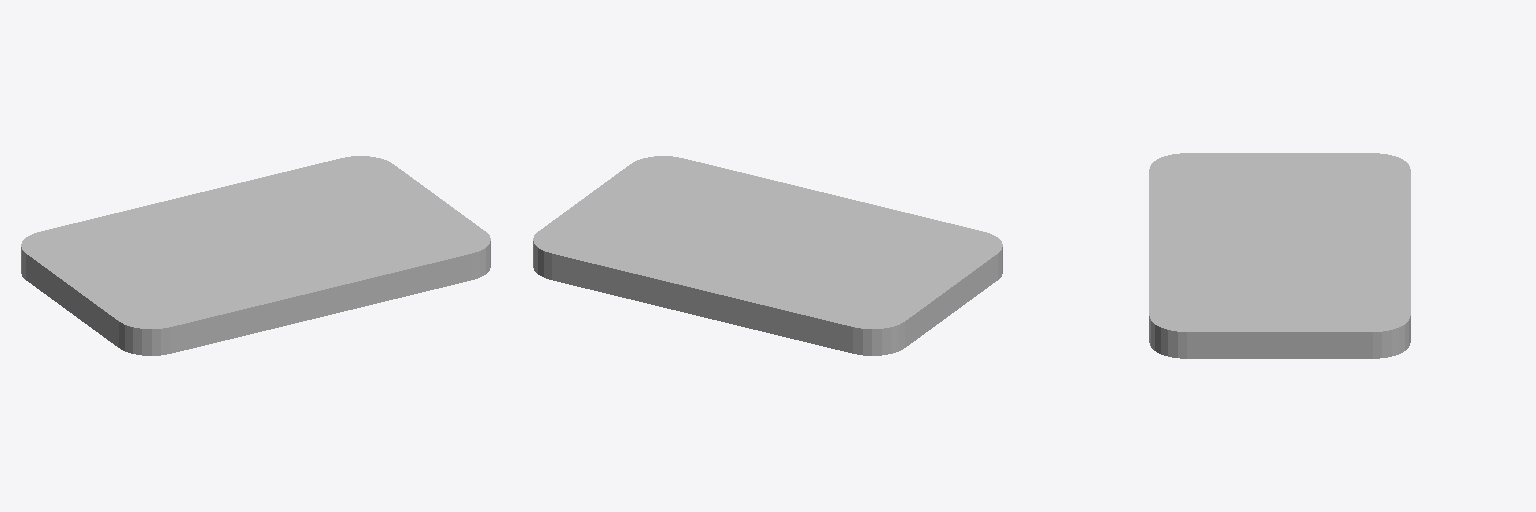
Rendered from original-13.obj.
The picture shows the model from 3 angles: view 1: azimuth 30°, elevation 25°; view 2: azimuth 150°, elevation 25°; view 3: azimuth 270°, elevation 25°; orthographic projection.
Visible parts, largest first — view 1: mesh12/mesh12-geometry#mesh12-geometry; view 2: mesh12/mesh12-geometry#mesh12-geometry; view 3: mesh12/mesh12-geometry#mesh12-geometry.
Part boxes in pixels (x1,y1,x2,y2): mesh12/mesh12-geometry#mesh12-geometry: (21,156,490,355); mesh12/mesh12-geometry#mesh12-geometry: (533,156,1002,355); mesh12/mesh12-geometry#mesh12-geometry: (1149,153,1410,358).
Size of the model in its own units: 0.0922 by 0.0064 by 0.0568.